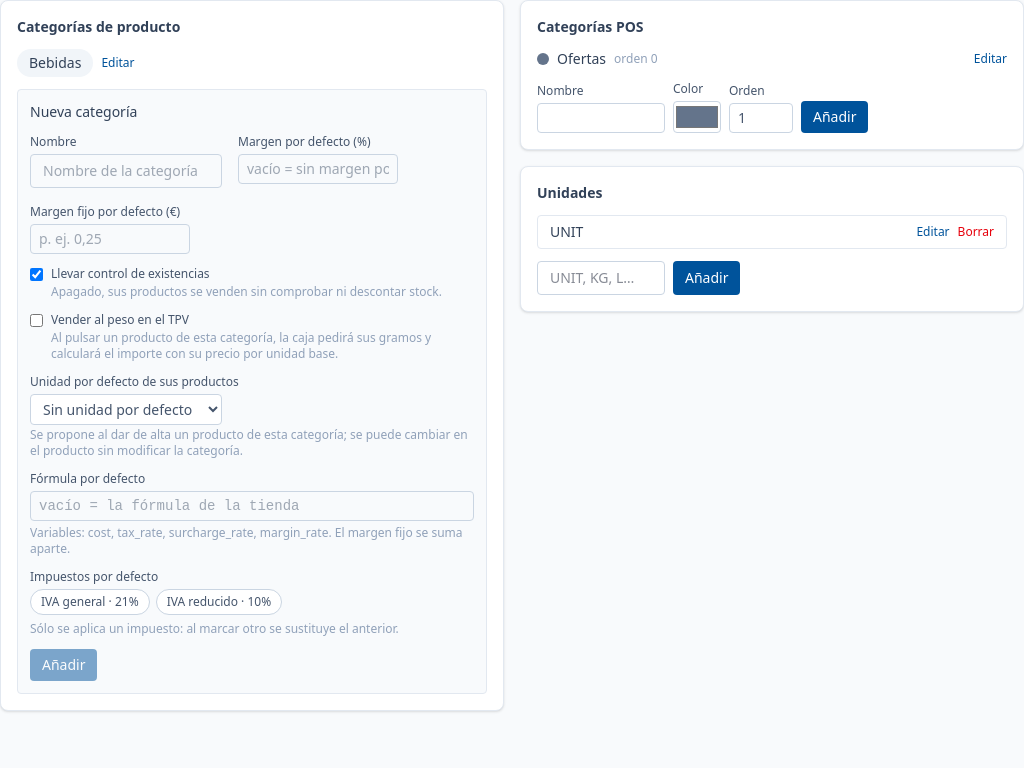
CategoriesPage › renames a category already created, and can back out without saving
expect the text "Bebidas" is shown: met, box [17,49,93,77]
Click the button with aria-label "Editar «Bebidas»". click: (118, 63)
box: [101,55,135,71]
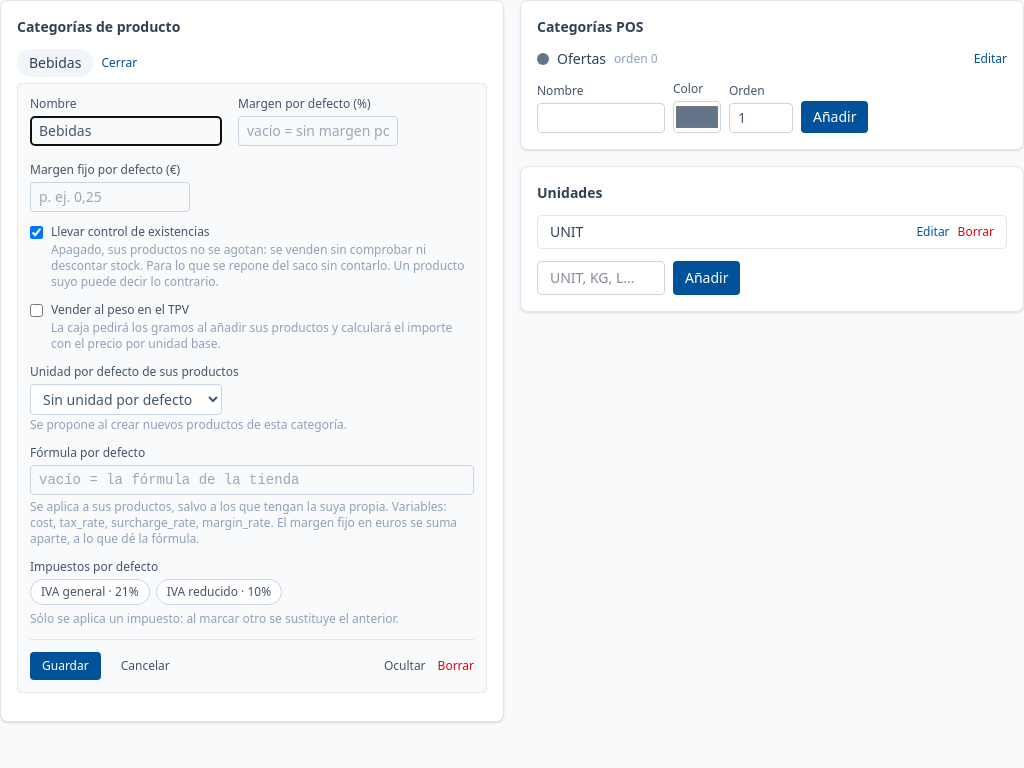
Replace the text in the field named "Nombre de «Bebidas»" with "Refrescos". click: (126, 131)
box: [30,116,222,146]
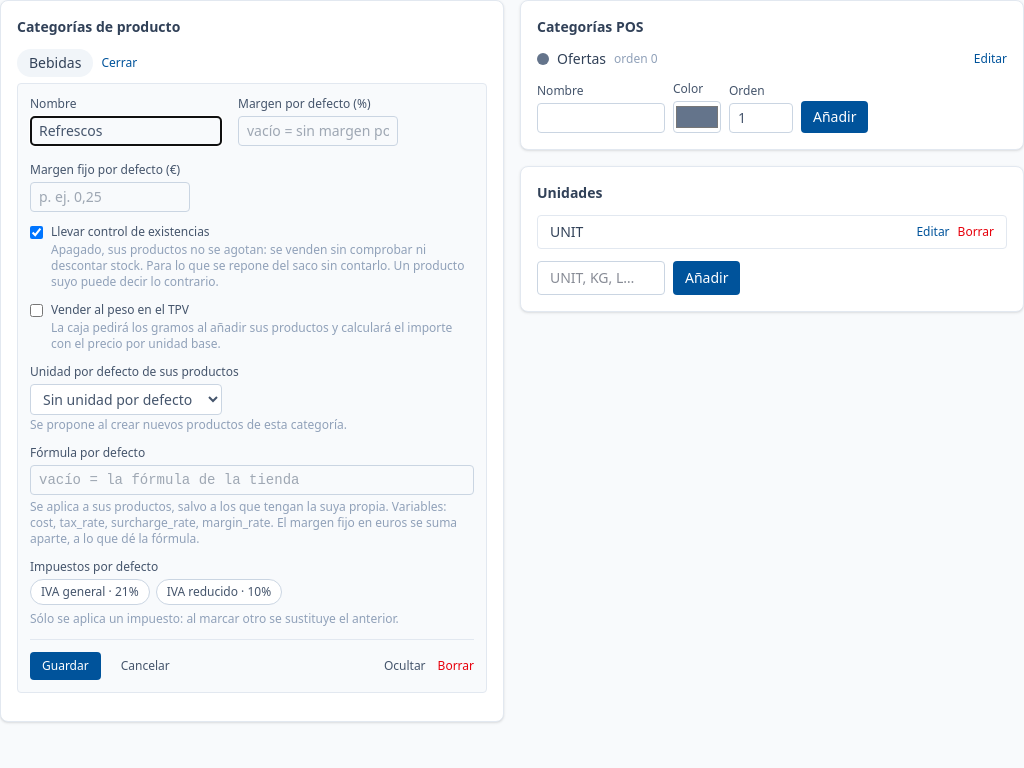
Click the button "Cancelar". click: (145, 666)
box: [109,652,182,680]
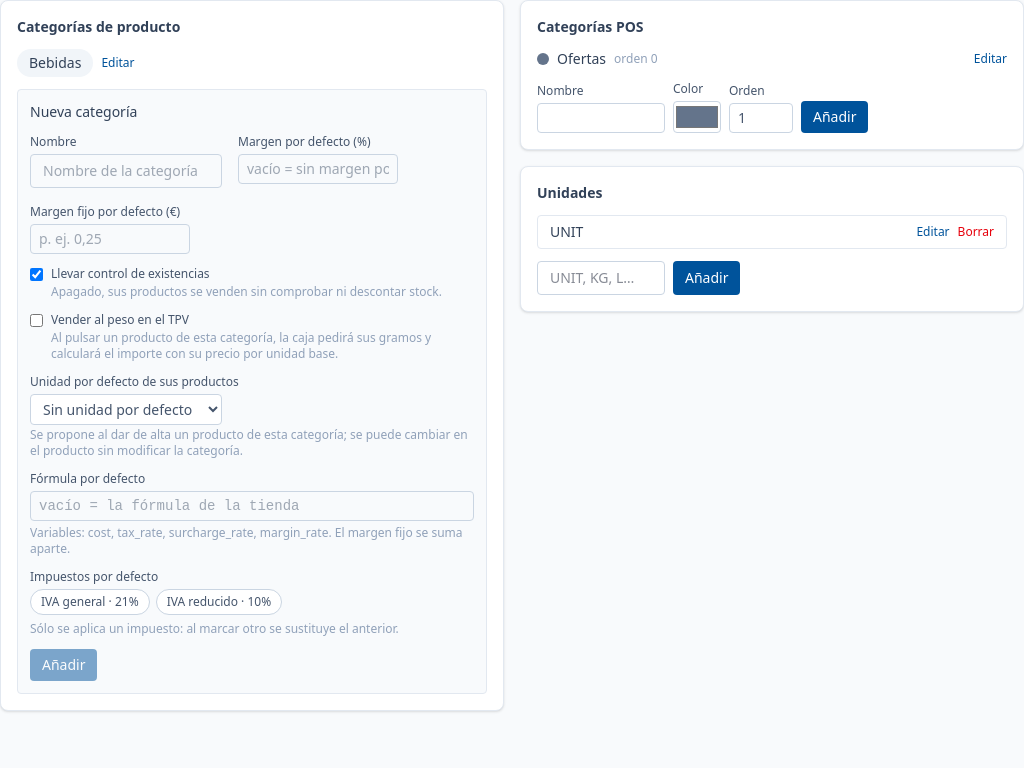
expect the text "Bebidas" is shown: met, box [17,49,93,77]
Click the button with aria-label "Editar «Bebidas»". click: (118, 63)
box: [101,55,135,71]
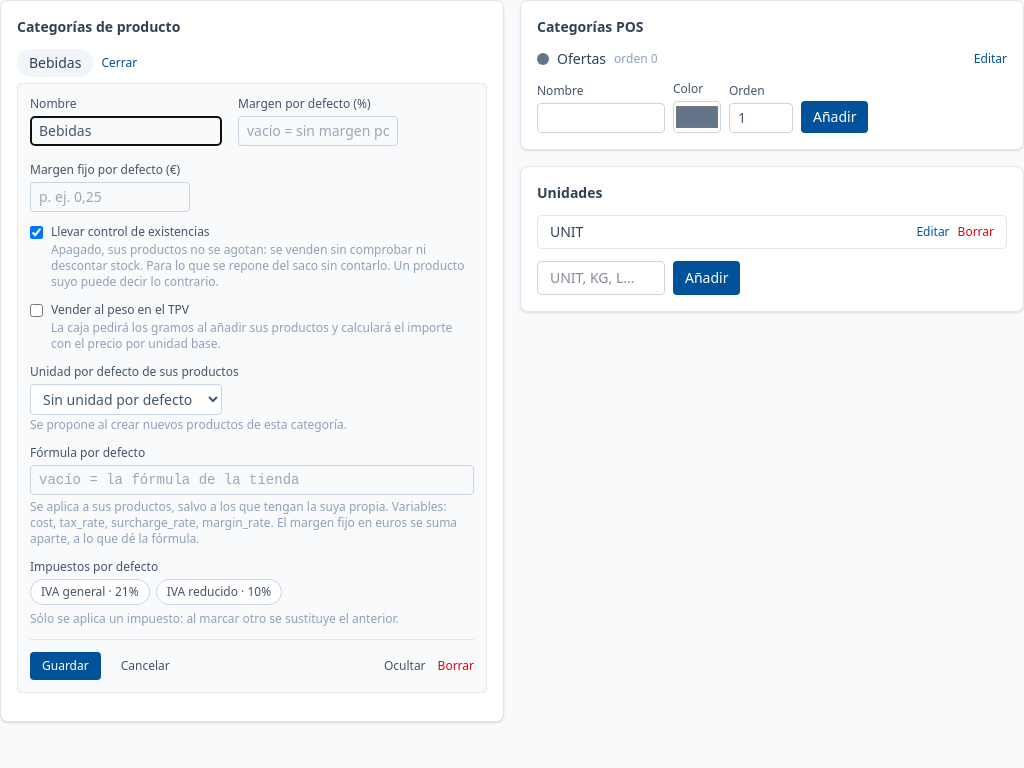
Replace the text in the field named "Nombre de «Bebidas»" with "Refrescos". click: (126, 131)
box: [30,116,222,146]
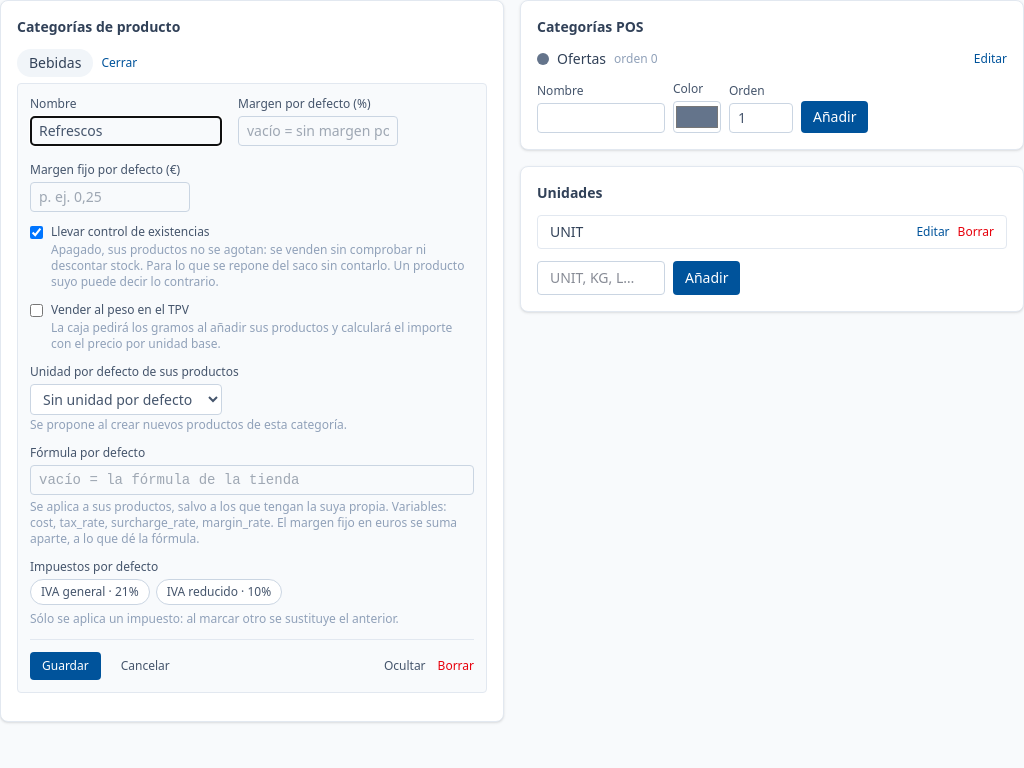
Click the button "Guardar". click: (65, 666)
box: [30,652,101,680]
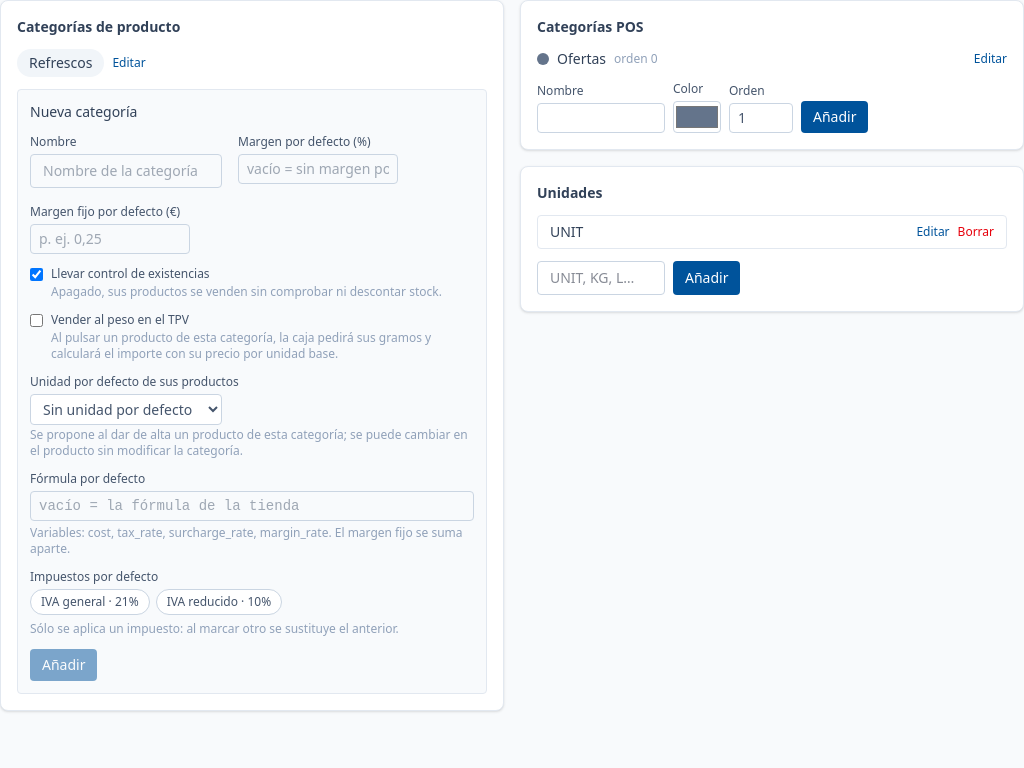
expect the text "Refrescos" is shown: met, box [17,49,104,77]
